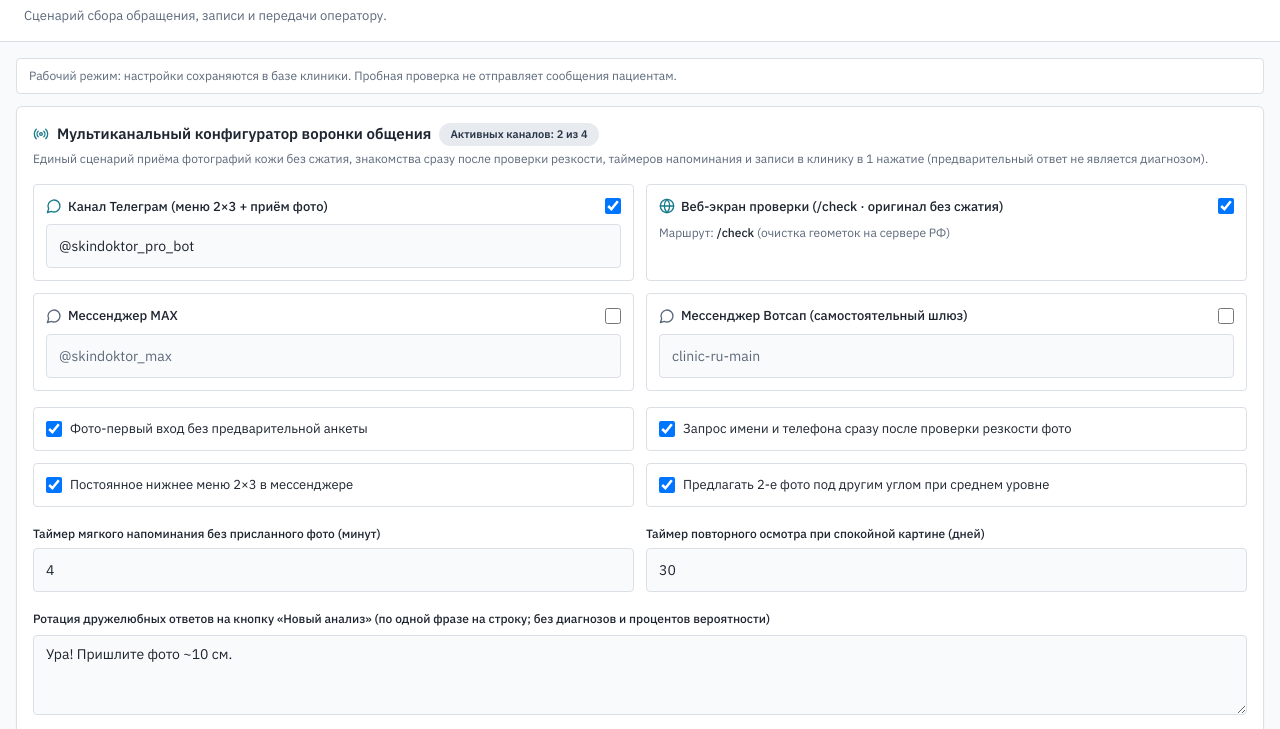
AdminBotSettingsPage · live settings synchronization › loads and saves multi-channel communication settings (Telegram, MAX, WhatsApp, Web)
Check: the field named "Адрес помощника в Телеграм" holds "@skindoktor_pro_bot", box [46, 224, 621, 268]
Replace the text in the number field labelled "Таймер мягкого напоминания без присланного фото (минут)" with "5": (334, 570) [33, 548, 634, 592]
(page scrolled)
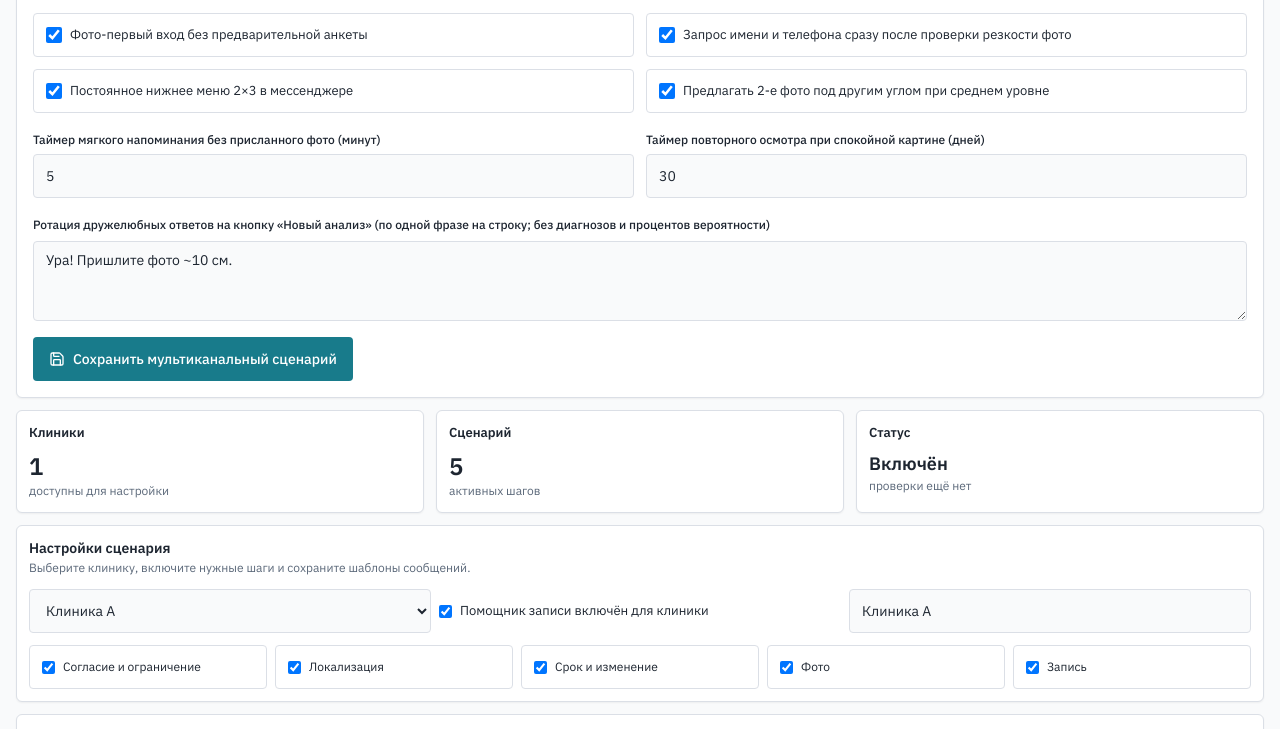
Click the button "Сохранить мультиканальный сценарий": click(193, 358) [33, 336, 353, 380]
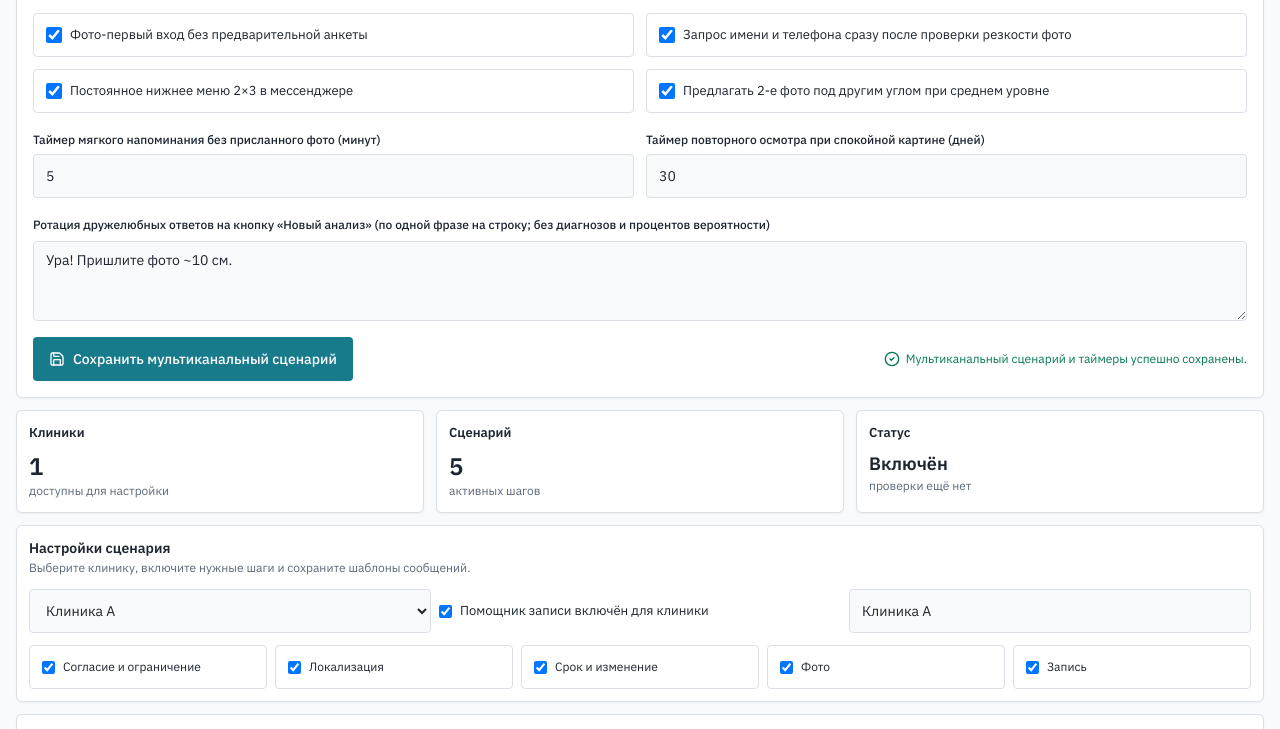
Check: the text "Мультиканальный сценарий и таймеры успешно сохранены." is shown, box [884, 350, 1247, 368]
